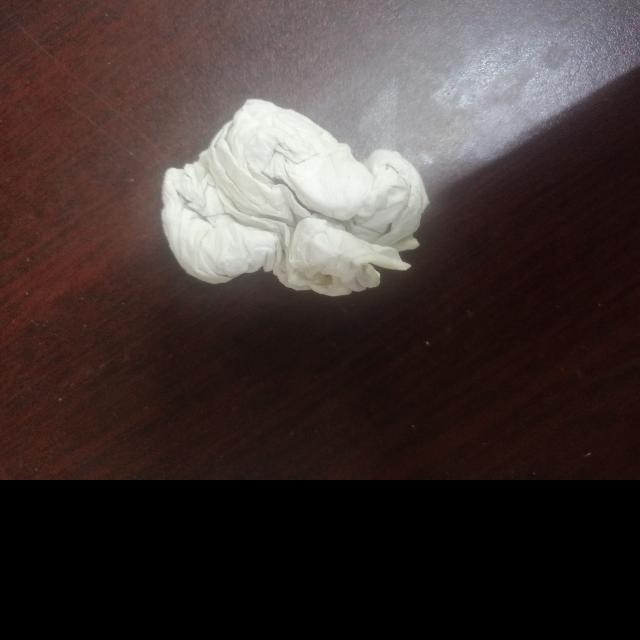kitchen paper: (130, 91, 446, 316)
